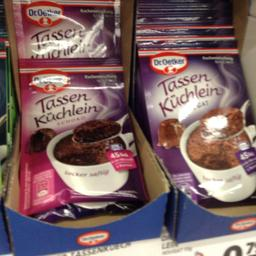cake: (14, 56, 145, 214), (136, 44, 255, 214)
